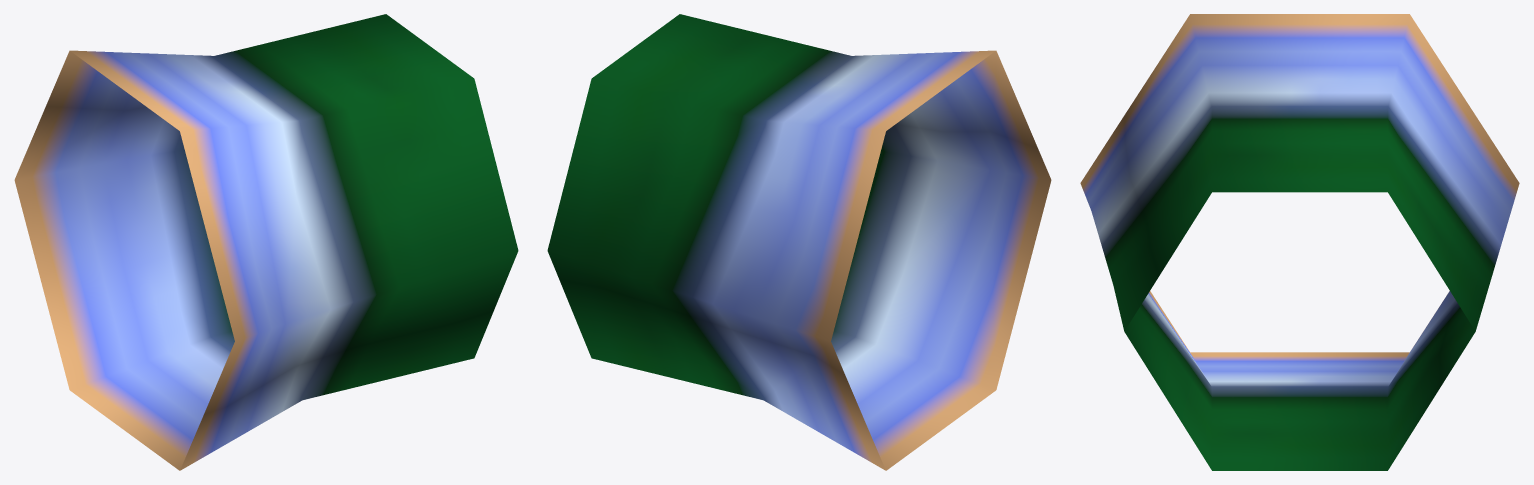
Rendered from batch_0071.obj.
3 views of the same model, side by side, from view 1: azimuth 30°, elevation 25°; view 2: azimuth 150°, elevation 25°; view 3: azimuth 270°, elevation 25° (orthographic).
Parts seen in each view (by area): view 1: batch_0071; view 2: batch_0071; view 3: batch_0071.
Part boxes in pixels (<box>): batch_0071: <box>14,14,518,470</box>; batch_0071: <box>547,14,1051,470</box>; batch_0071: <box>1080,14,1519,470</box>.
Size of the model in its own units: 8 by 8.5 by 10.
Materials: 1 (1 with a texture image).
